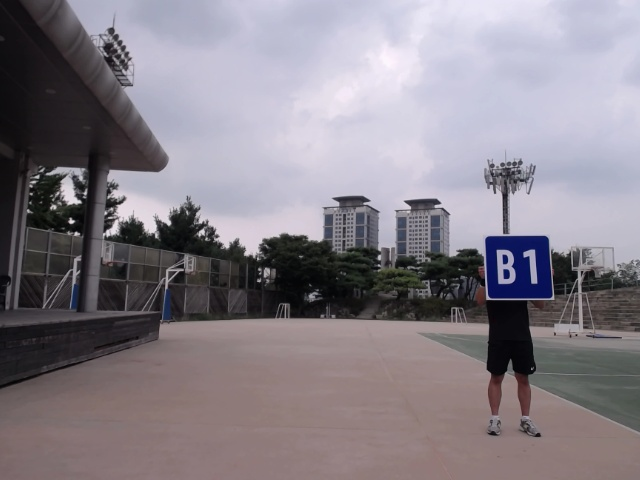delivery_b1: (483, 235, 554, 300)
